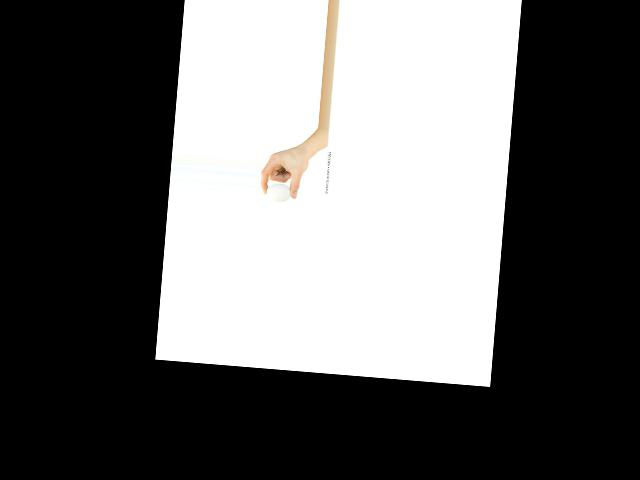egg: (266, 182, 291, 201)
